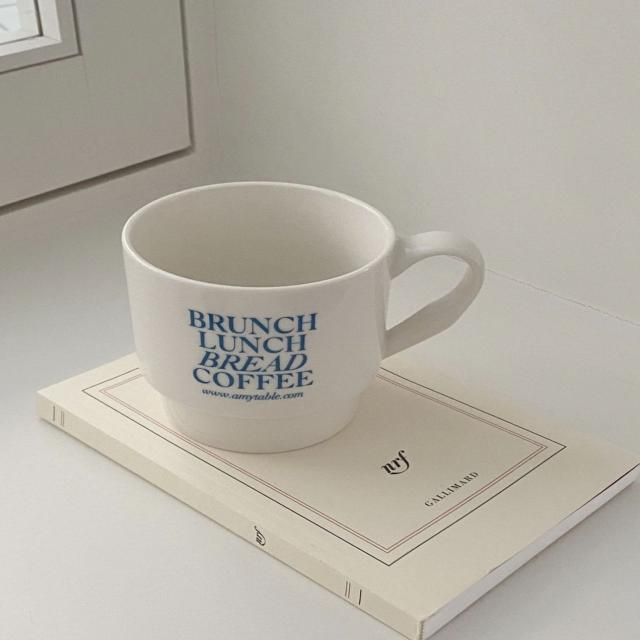glass cup: (122, 182, 484, 454)
